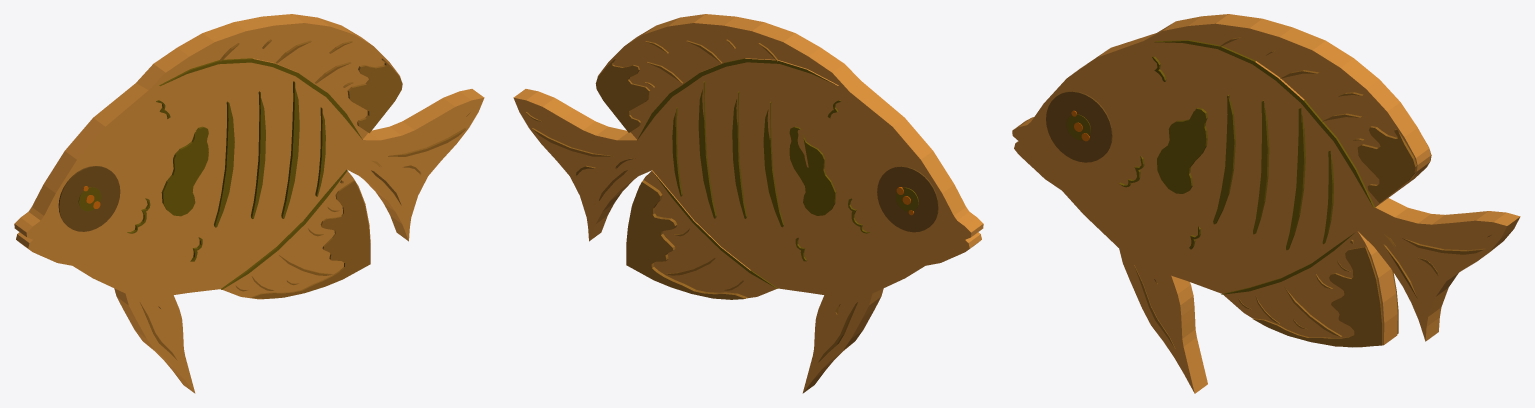
File: GoldFish.fbx
The picture shows the model from 3 angles, left to right: view 1: azimuth 30°, elevation 25°; view 2: azimuth 150°, elevation 25°; view 3: azimuth 330°, elevation 25°; orthographic projection. The views are drawn at different scales.
Visible parts, largest first — view 1: Plane, Plane.003, Plane.001, Circle; view 2: Plane, Plane.003, Plane.002, Circle.002; view 3: Plane, Plane.003, Plane.001, Circle.
Boxes of the visible parts, left/top/right/bottom form: Plane: left=14, top=14, right=484, bottom=393; Plane.003: left=140, top=39, right=470, bottom=360; Plane.001: left=127, top=81, right=325, bottom=261; Circle: left=58, top=166, right=120, bottom=231; Plane: left=513, top=14, right=983, bottom=393; Plane.003: left=526, top=39, right=857, bottom=362; Plane.002: left=672, top=81, right=870, bottom=261; Circle.002: left=877, top=166, right=938, bottom=232; Plane: left=1012, top=14, right=1520, bottom=393; Plane.003: left=1134, top=37, right=1491, bottom=348; Plane.001: left=1119, top=56, right=1333, bottom=250; Circle: left=1046, top=91, right=1112, bottom=162.
Size of the model in its own units: 65.68 by 48.05 by 4.08.
